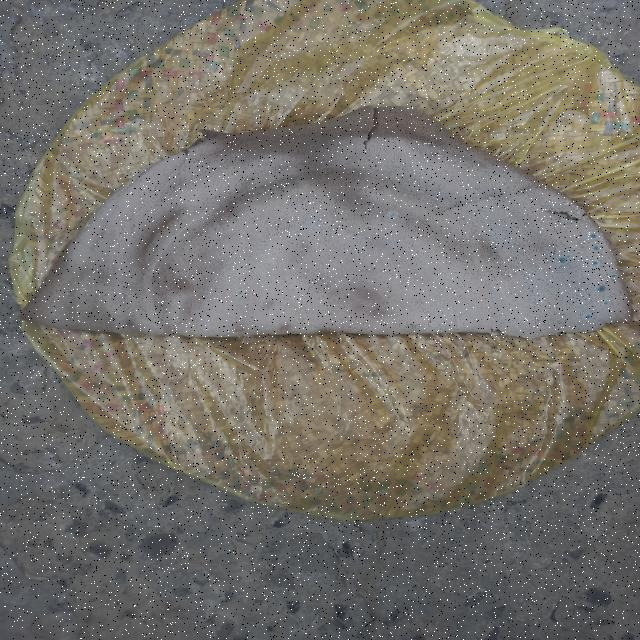injera_mold: (598, 233, 609, 246), (387, 211, 399, 220), (594, 286, 606, 293), (574, 206, 584, 214), (583, 314, 592, 320), (558, 257, 566, 263), (564, 198, 570, 205), (592, 246, 600, 251), (589, 233, 597, 238), (564, 217, 572, 221), (592, 261, 598, 266), (582, 297, 588, 302), (238, 291, 244, 295), (610, 274, 616, 278), (603, 301, 608, 305), (566, 255, 570, 258), (428, 142, 431, 145), (66, 292, 70, 294), (570, 215, 574, 217), (75, 288, 78, 290), (62, 292, 65, 294), (424, 142, 426, 145), (620, 296, 623, 298), (79, 287, 81, 289), (83, 288, 85, 290), (86, 290, 88, 292), (416, 142, 418, 144), (418, 146, 420, 148), (433, 144, 435, 146), (430, 152, 432, 154), (624, 297, 626, 299), (74, 283, 76, 284), (79, 282, 81, 283), (86, 294, 88, 295), (623, 294, 625, 295)
